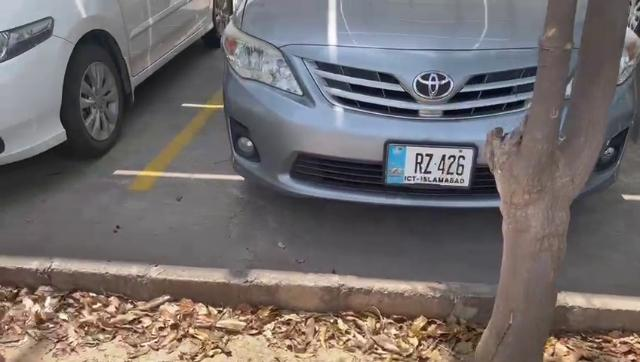plate: (382, 139, 476, 191)
